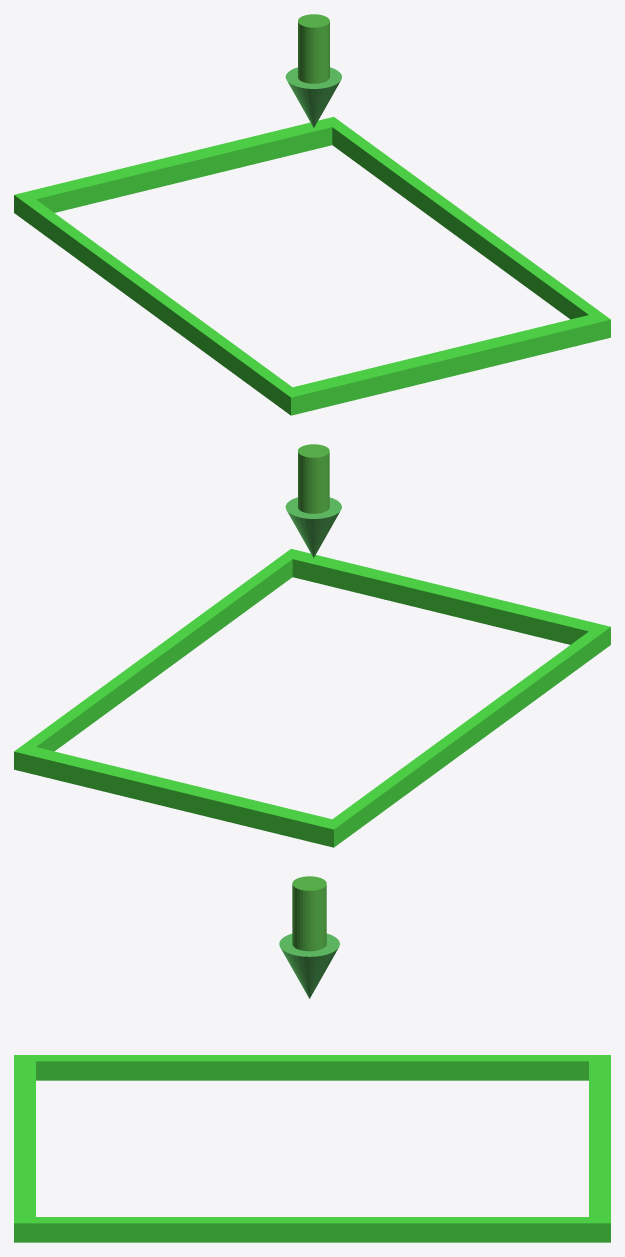
3 renders of one model, top to bottom at view 1: azimuth 30°, elevation 25°; view 2: azimuth 150°, elevation 25°; view 3: azimuth 270°, elevation 25°, orthographic. The views are drawn at different scales.
Parts seen in each view (by area): view 1: Cube.004, Cylinder, Cone; view 2: Cube.004, Cylinder, Cone; view 3: Cube.004, Cylinder, Cone.
Boxes of the visible parts, <box> form: Cube.004: <box>14,117,610,415</box>; Cylinder: <box>298,14,329,83</box>; Cone: <box>285,67,341,127</box>; Cube.004: <box>14,549,610,847</box>; Cylinder: <box>298,444,329,513</box>; Cone: <box>285,497,341,557</box>; Cube.004: <box>14,1055,610,1242</box>; Cylinder: <box>292,876,326,951</box>; Cone: <box>279,933,339,998</box>.
Size of the model in its own units: 200 by 152 by 300.
